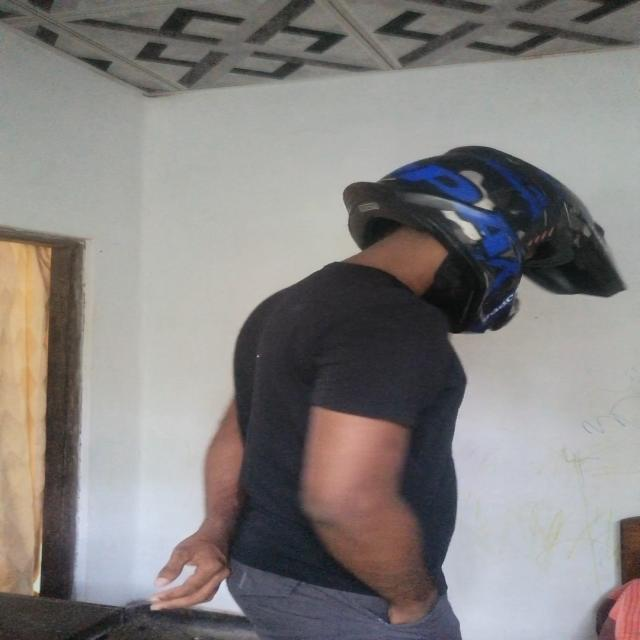Helmet_Wearer: (322, 136, 640, 346)
Person: (200, 151, 561, 626)
